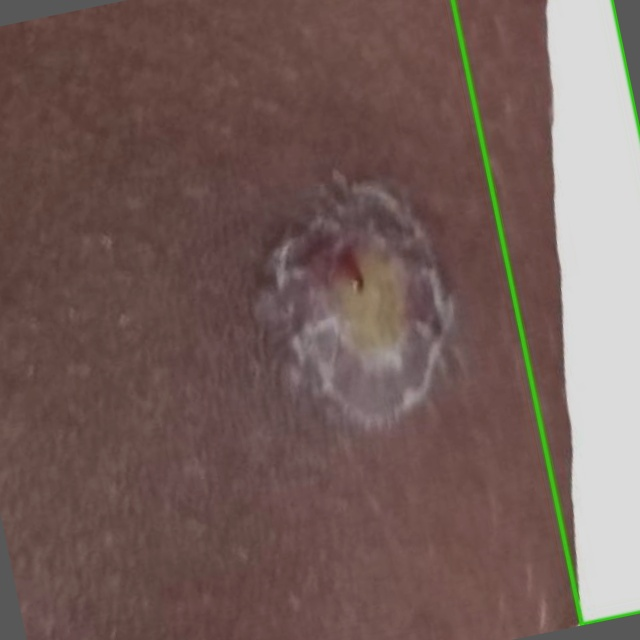Scabies: (453, 0, 639, 624)
